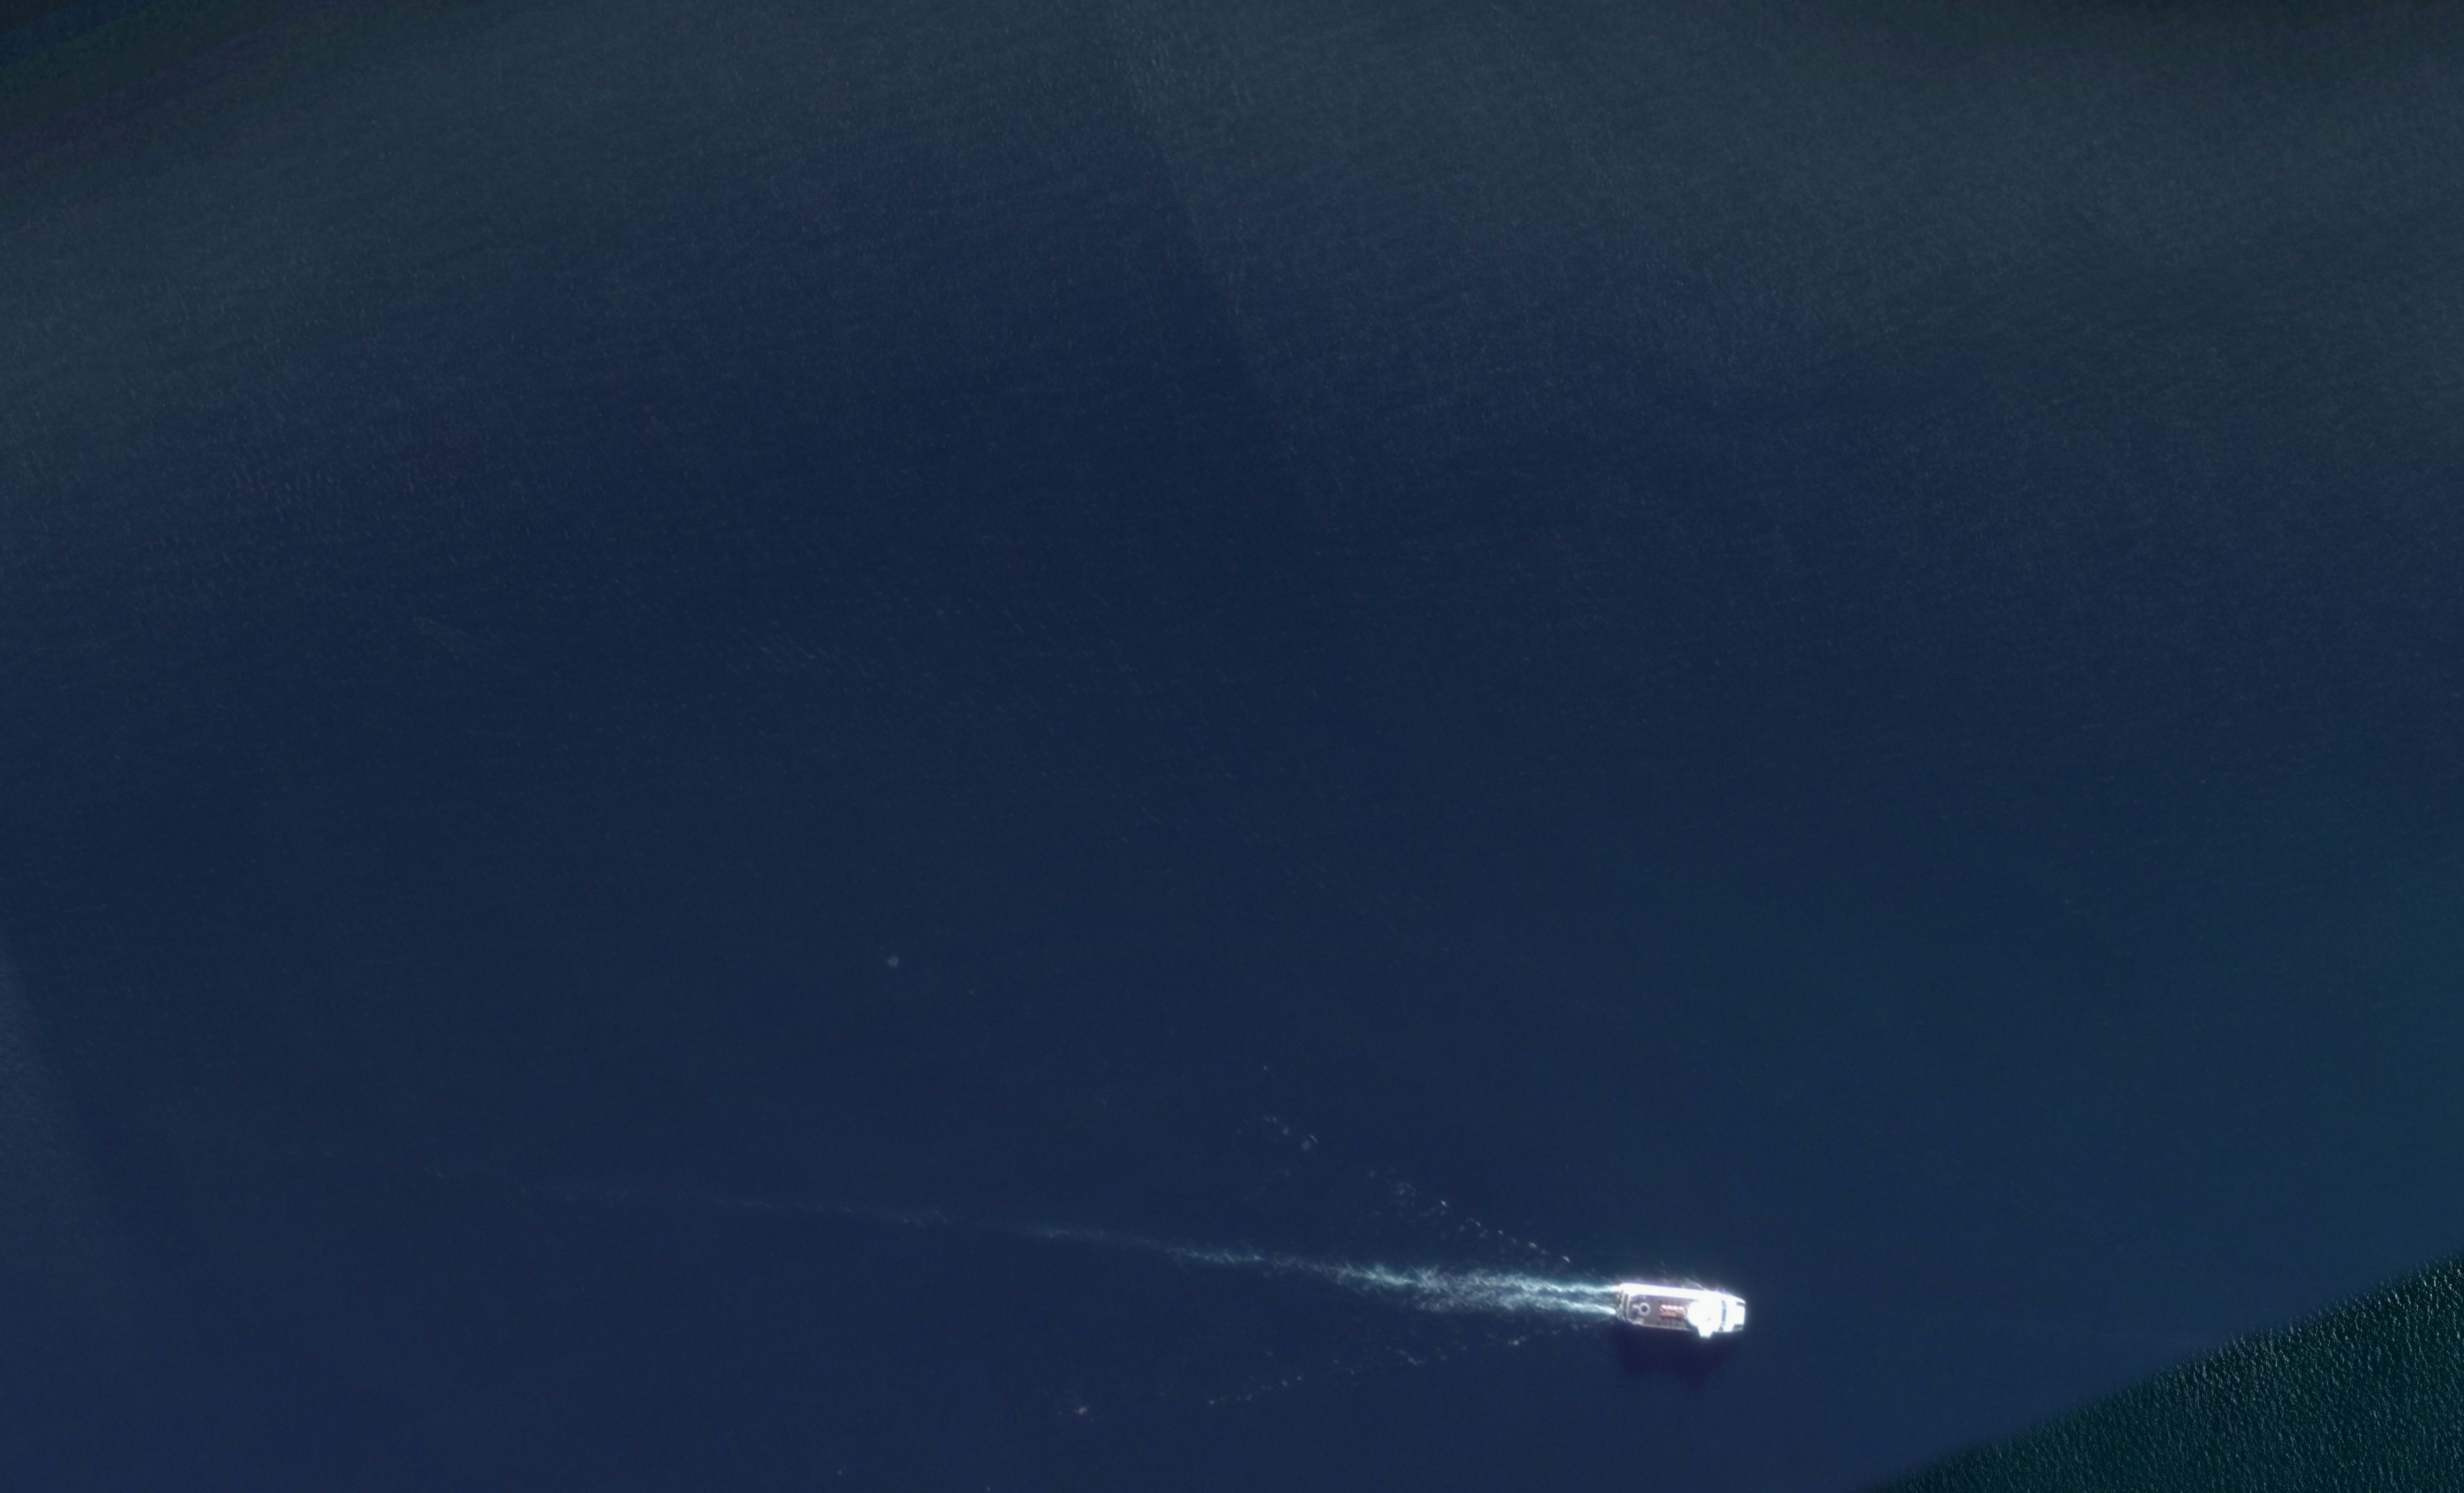boat: (1609, 1282, 1748, 1342)
